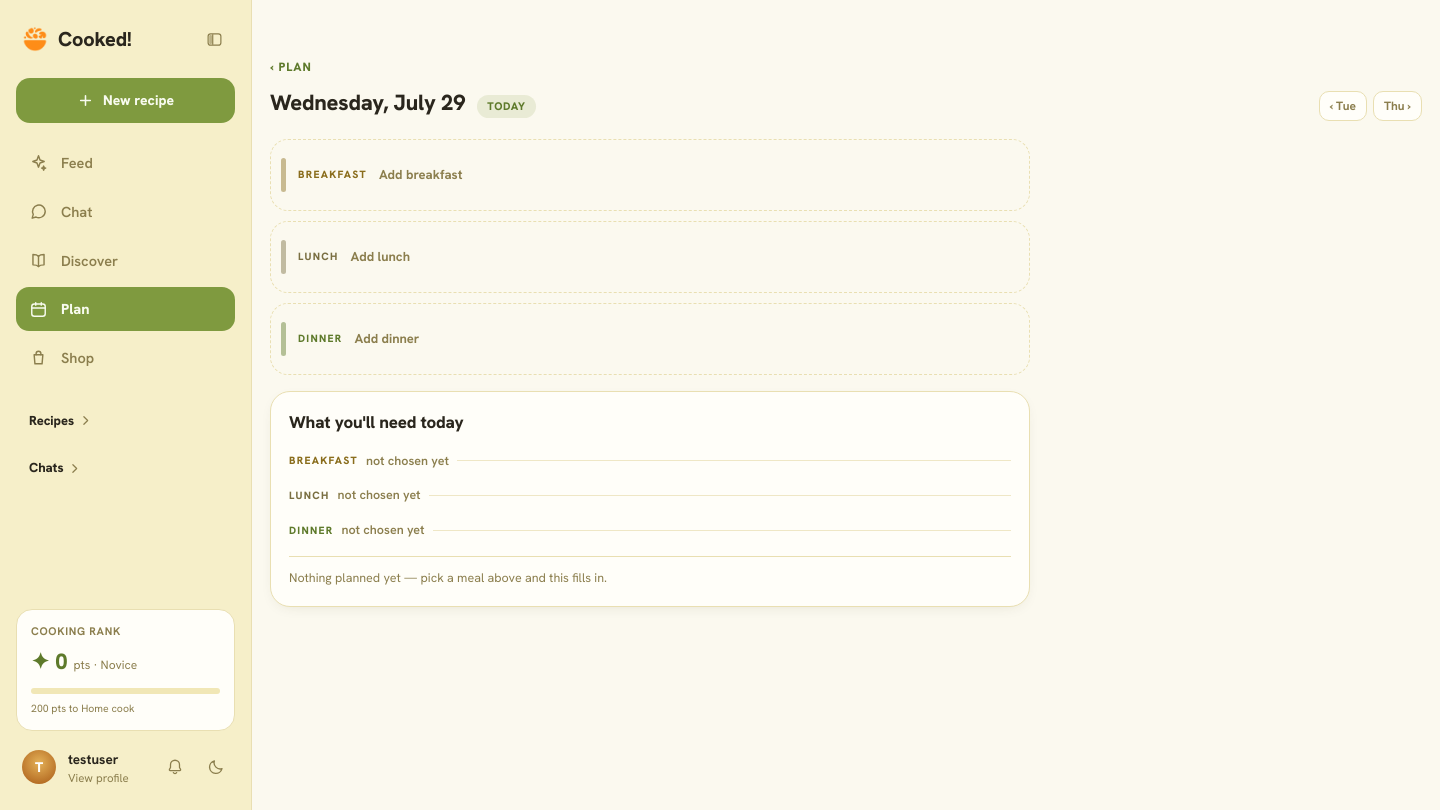
Test: the recipe picker › filters as you type, without a round trip
Click the button with aria-label "add a recipe for dinner" at (320, 338), box left=270, top=303, right=1030, bottom=375
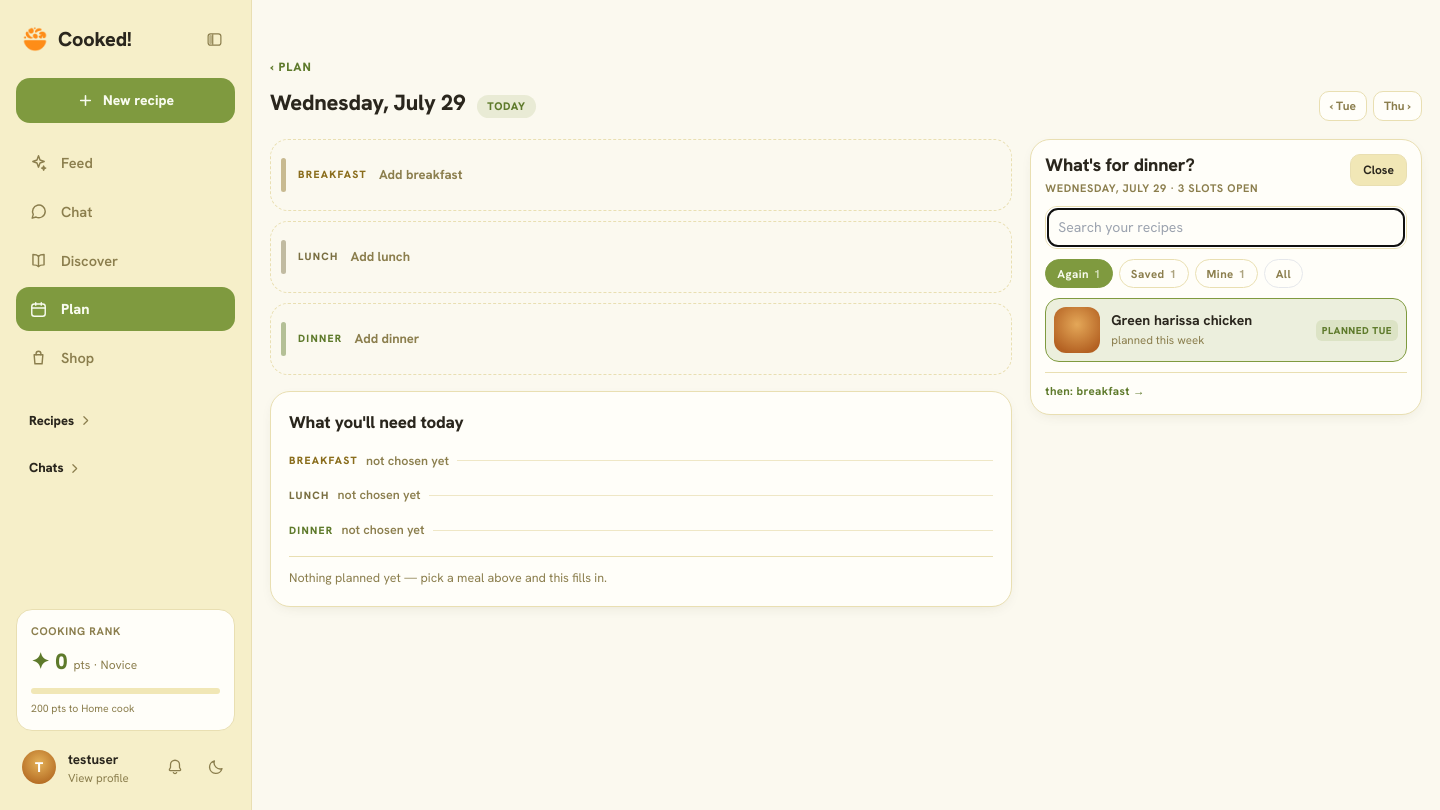
Expected: the heading "What's for dinner?" is shown, left=1045, top=153, right=1194, bottom=176
Click the tab "Saved1" at (1154, 274), box left=1119, top=259, right=1188, bottom=288
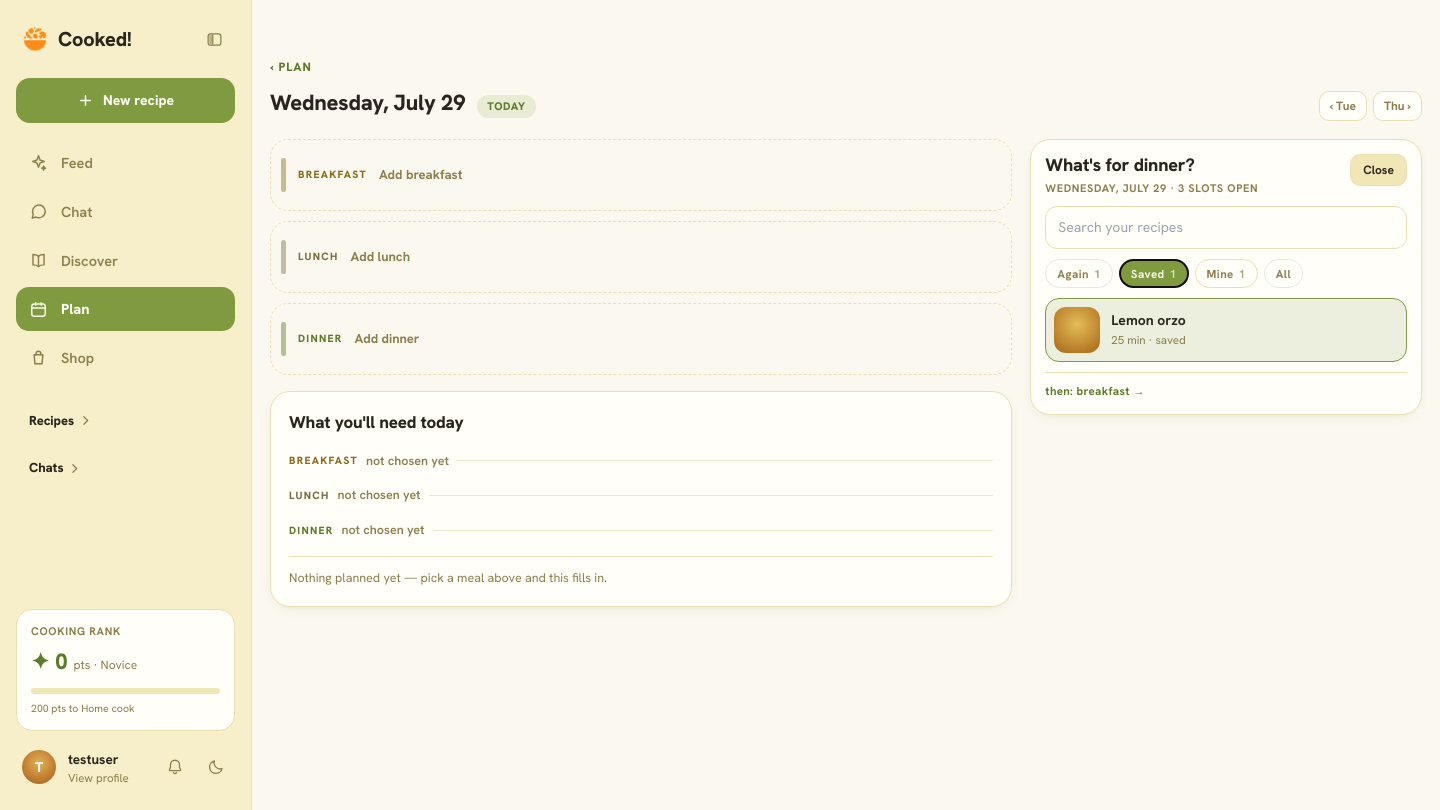
Expected: the button "Lemon orzo 25 min · saved" is shown, left=1045, top=298, right=1407, bottom=362
Type "zzz" into the search field labelled "Search your recipes" at (1226, 228), box left=1045, top=206, right=1407, bottom=249
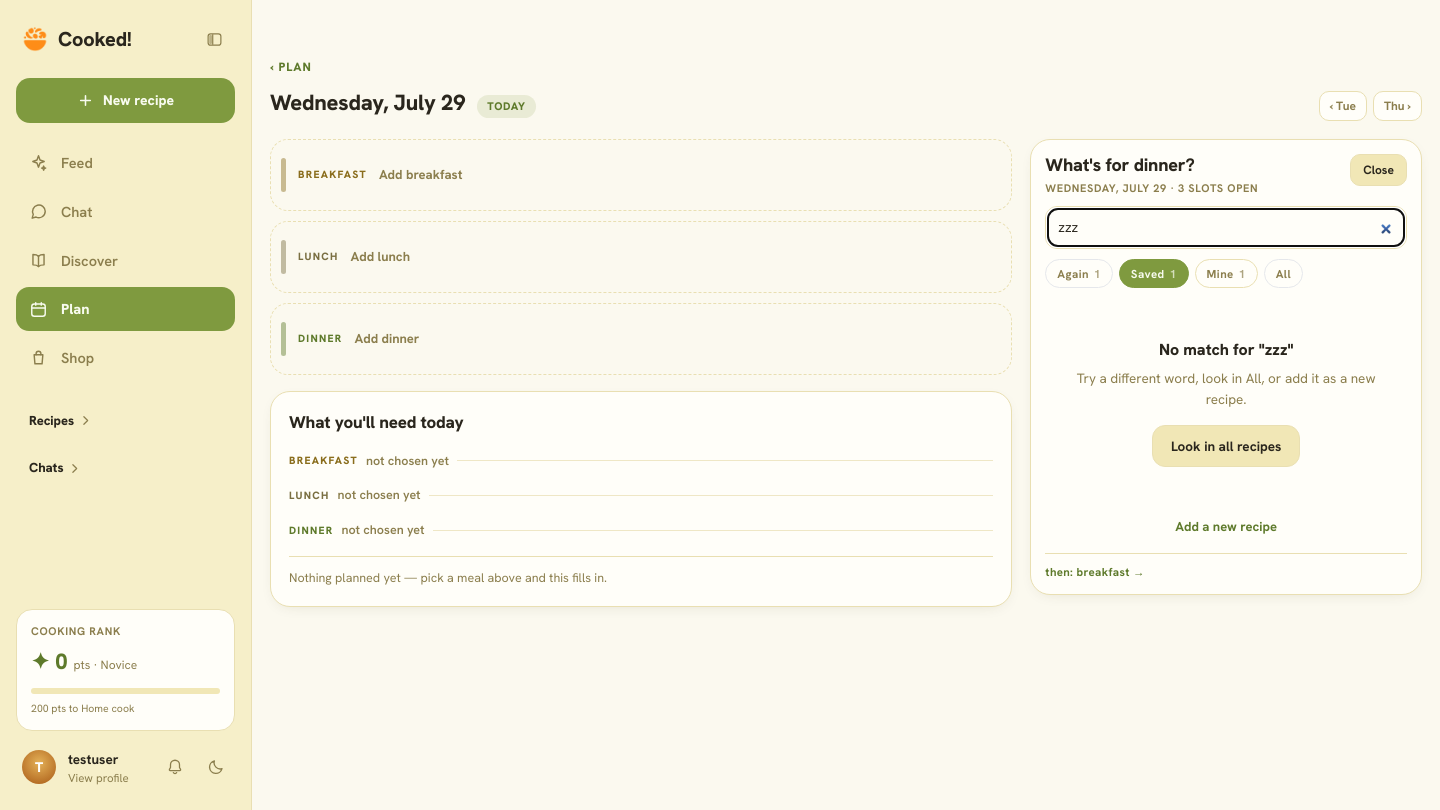
Expected: the button "Lemon orzo" is gone
Expected: the text "No match for \"zzz\"" is shown, left=1159, top=339, right=1293, bottom=360
